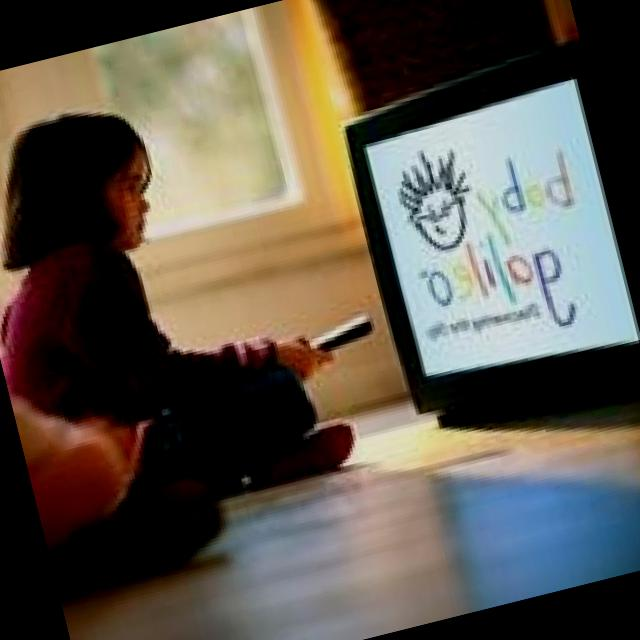no_vest: (0, 219, 185, 468)
